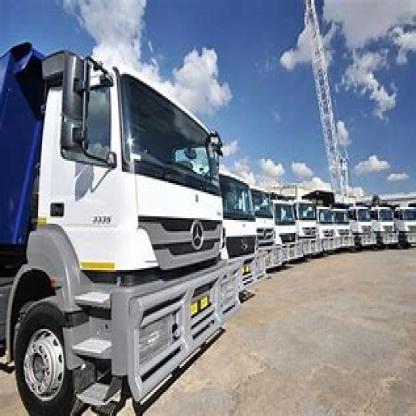dump_truck: (3, 32, 212, 384), (211, 139, 260, 331), (256, 181, 277, 292), (274, 181, 296, 276), (372, 181, 393, 248), (316, 194, 336, 261), (299, 192, 316, 268), (339, 194, 353, 266), (356, 196, 367, 261)
